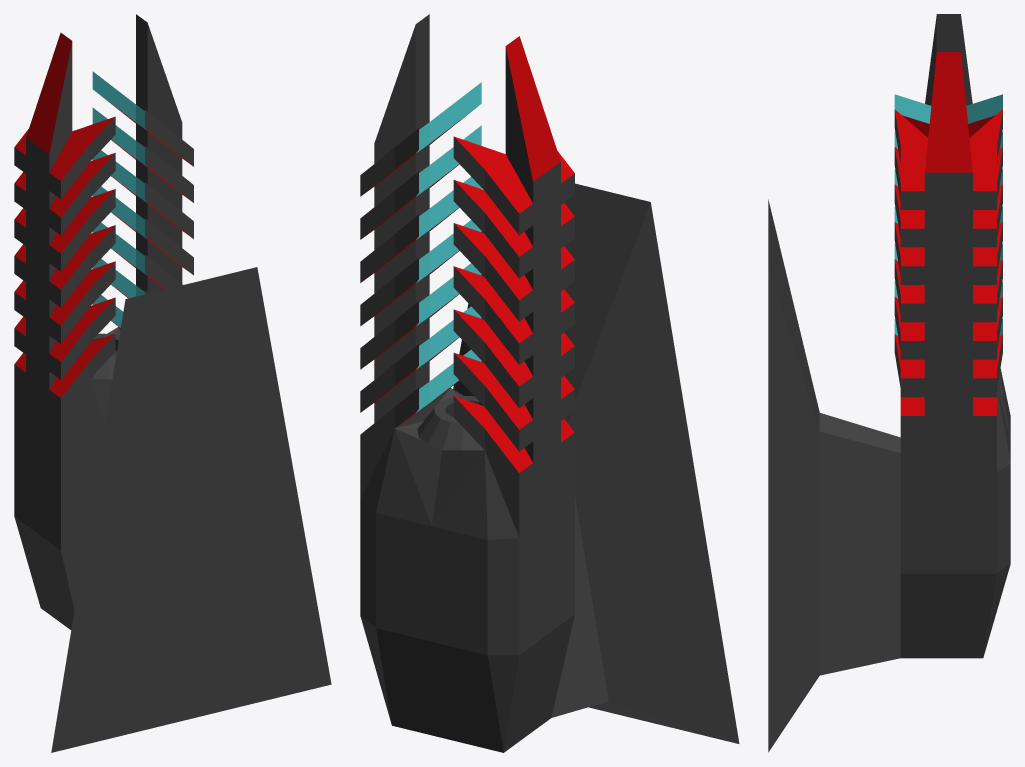
The model's file is Railmortar.fbx.
The picture shows the model from 3 angles, left to right: view 1: azimuth 30°, elevation 25°; view 2: azimuth 150°, elevation 25°; view 3: azimuth 270°, elevation 25°; orthographic projection. The views are drawn at different scales.
Visible parts, largest first — view 1: Railmortar; view 2: Railmortar; view 3: Railmortar.
Boxes of the visible parts, x1,y1,x2,y2 form: Railmortar: (14, 14, 331, 752); Railmortar: (360, 14, 739, 752); Railmortar: (768, 14, 1010, 752).
Bounding box in the file's own units: 1946 × 4162 × 1410.
